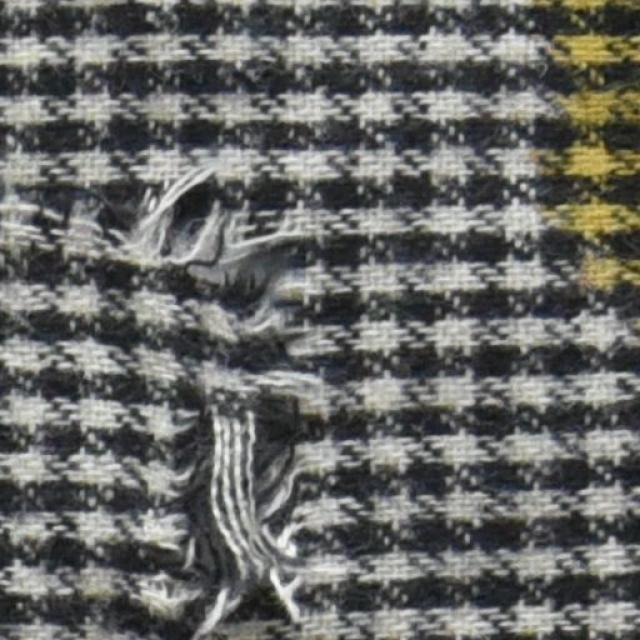Hole: (218, 233, 296, 298)
Snag: (3, 158, 335, 639)
Stain: (536, 0, 639, 315)
